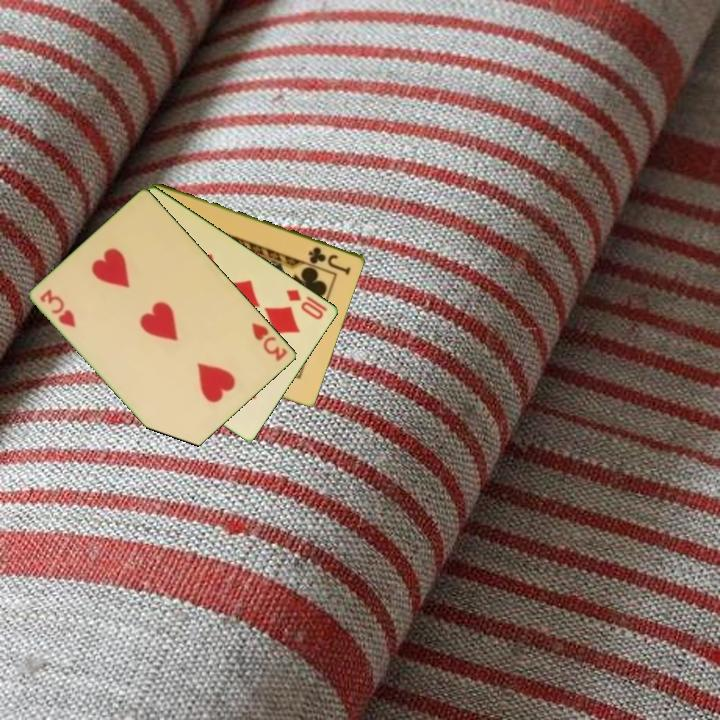10d: (283, 285, 331, 323)
3h: (248, 319, 291, 364), (37, 286, 79, 331)
Jc: (305, 243, 354, 277)
